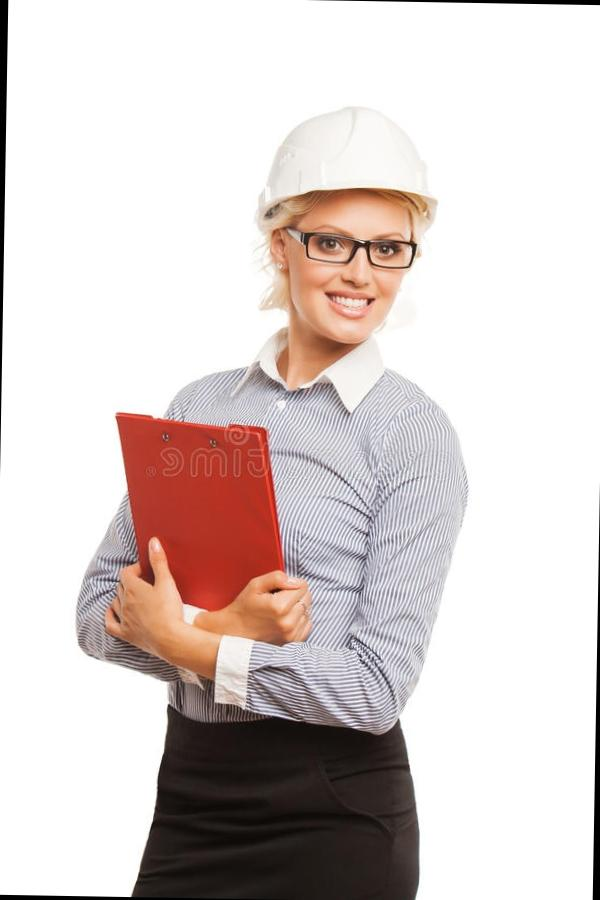helmet: (256, 100, 444, 246)
no_wear: (160, 370, 472, 732)
